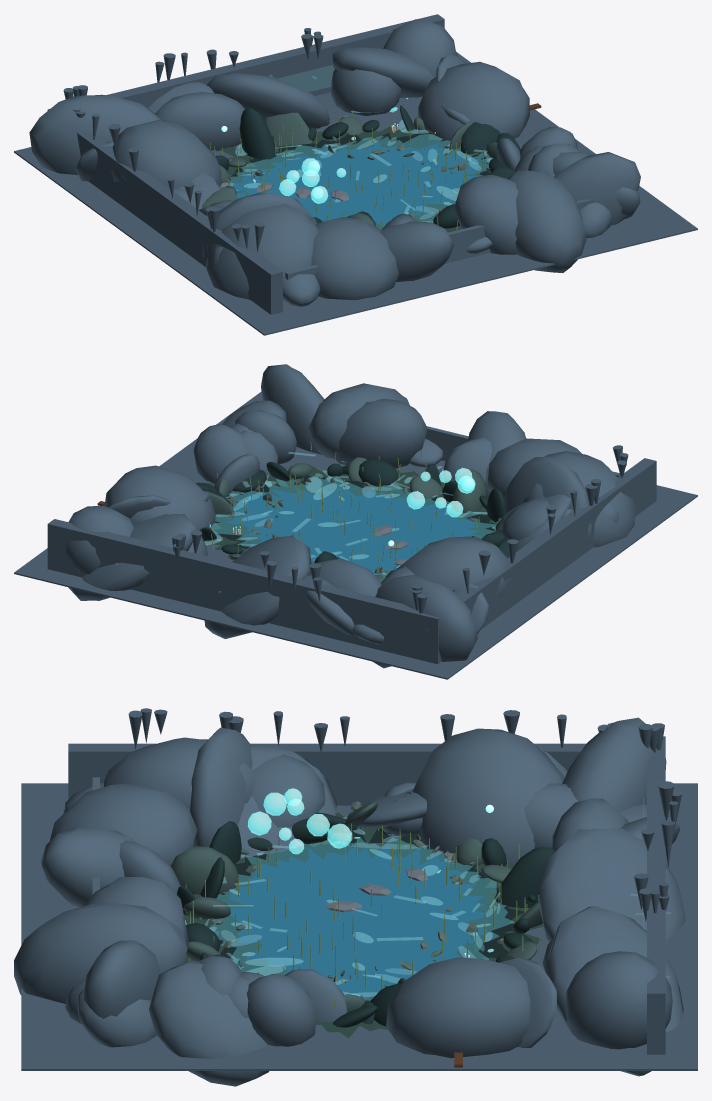
The model's file is lake-grotto.high.glb.
3 renders of one model, top to bottom at view 1: azimuth 30°, elevation 25°; view 2: azimuth 150°, elevation 25°; view 3: azimuth 270°, elevation 25°, orthographic. The views are drawn at different scales.
Visible parts, largest first — view 1: wet_cavern_rock_cluster (×24), cavern_lower_terrain_skirt, lake_grotto_submerged_silt_bed, lake_grotto_deep_irregular_water_pool, layered_cavern_wall_west, layered_cavern_back_wall_north, lake_grotto_natural_shore_rock_cluster (×3), lake_grotto_shallow_mineral_water_shelf, cavern_backplate_shadow, lake_grotto_wet_rocky_bank_terrain, cavern_depth_blue_mist_sheet; view 2: wet_cavern_rock_cluster (×26), layered_cavern_back_wall_north, cavern_lower_terrain_skirt, lake_grotto_submerged_silt_bed, lake_grotto_deep_irregular_water_pool, layered_cavern_wall_west, lake_grotto_natural_shore_rock_cluster (×4), lake_grotto_shallow_mineral_water_shelf, lake_grotto_wet_rocky_bank_terrain, cavern_backplate_shadow; view 3: wet_cavern_rock_cluster (×25), cavern_lower_terrain_skirt, lake_grotto_submerged_silt_bed, lake_grotto_deep_irregular_water_pool, lake_grotto_natural_shore_rock_cluster (×9), layered_cavern_wall_west, lake_grotto_shallow_mineral_water_shelf, layered_cavern_back_wall_north, lake_grotto_wet_rocky_bank_terrain.
Boxes of the visible parts, x1,y1,x2,y2 form: wet_cavern_rock_cluster (×24): (29, 19, 640, 306); cavern_lower_terrain_skirt: (14, 52, 697, 335); lake_grotto_submerged_silt_bed: (229, 131, 492, 229); lake_grotto_deep_irregular_water_pool: (230, 141, 483, 226); layered_cavern_wall_west: (77, 132, 282, 314); layered_cavern_back_wall_north: (47, 14, 444, 110); lake_grotto_natural_shore_rock_cluster (×3): (239, 107, 500, 159); lake_grotto_shallow_mineral_water_shelf: (230, 134, 492, 229); cavern_backplate_shadow: (285, 199, 593, 279); lake_grotto_wet_rocky_bank_terrain: (219, 126, 520, 232); cavern_depth_blue_mist_sheet: (278, 65, 333, 91); wet_cavern_rock_cluster (×26): (65, 364, 635, 661); layered_cavern_back_wall_north: (47, 519, 441, 664); cavern_lower_terrain_skirt: (14, 391, 697, 679); lake_grotto_submerged_silt_bed: (213, 475, 496, 579); lake_grotto_deep_irregular_water_pool: (226, 485, 480, 575); layered_cavern_wall_west: (458, 458, 656, 629); lake_grotto_natural_shore_rock_cluster (×4): (358, 458, 506, 522); lake_grotto_shallow_mineral_water_shelf: (211, 477, 496, 579); lake_grotto_wet_rocky_bank_terrain: (202, 464, 497, 558); cavern_backplate_shadow: (425, 426, 620, 477); wet_cavern_rock_cluster (×25): (14, 717, 685, 1086); cavern_lower_terrain_skirt: (21, 783, 697, 1070); lake_grotto_submerged_silt_bed: (210, 828, 524, 1019); lake_grotto_deep_irregular_water_pool: (229, 844, 487, 999); lake_grotto_natural_shore_rock_cluster (×9): (170, 818, 555, 1026); layered_cavern_wall_west: (68, 743, 585, 805); lake_grotto_shallow_mineral_water_shelf: (208, 837, 514, 1000); layered_cavern_back_wall_north: (647, 736, 665, 1054); lake_grotto_wet_rocky_bank_terrain: (184, 812, 543, 1038).
Size of the model in its own units: 26.45 by 6.21 by 26.29.
